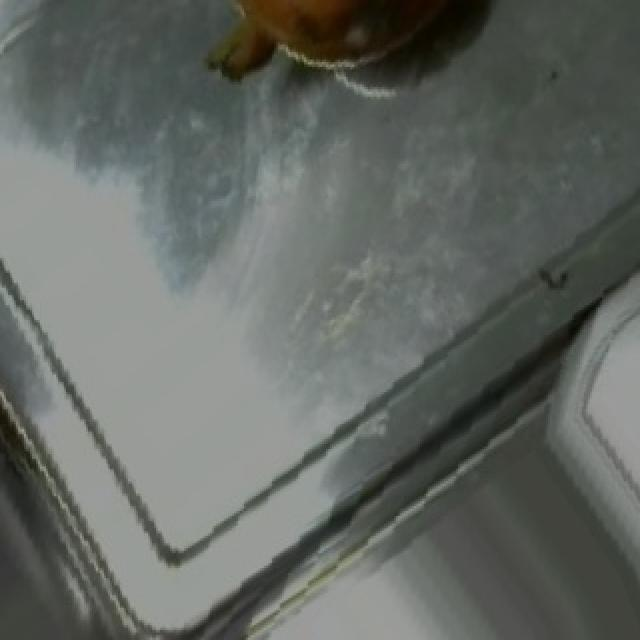fruit: (216, 0, 458, 102)
